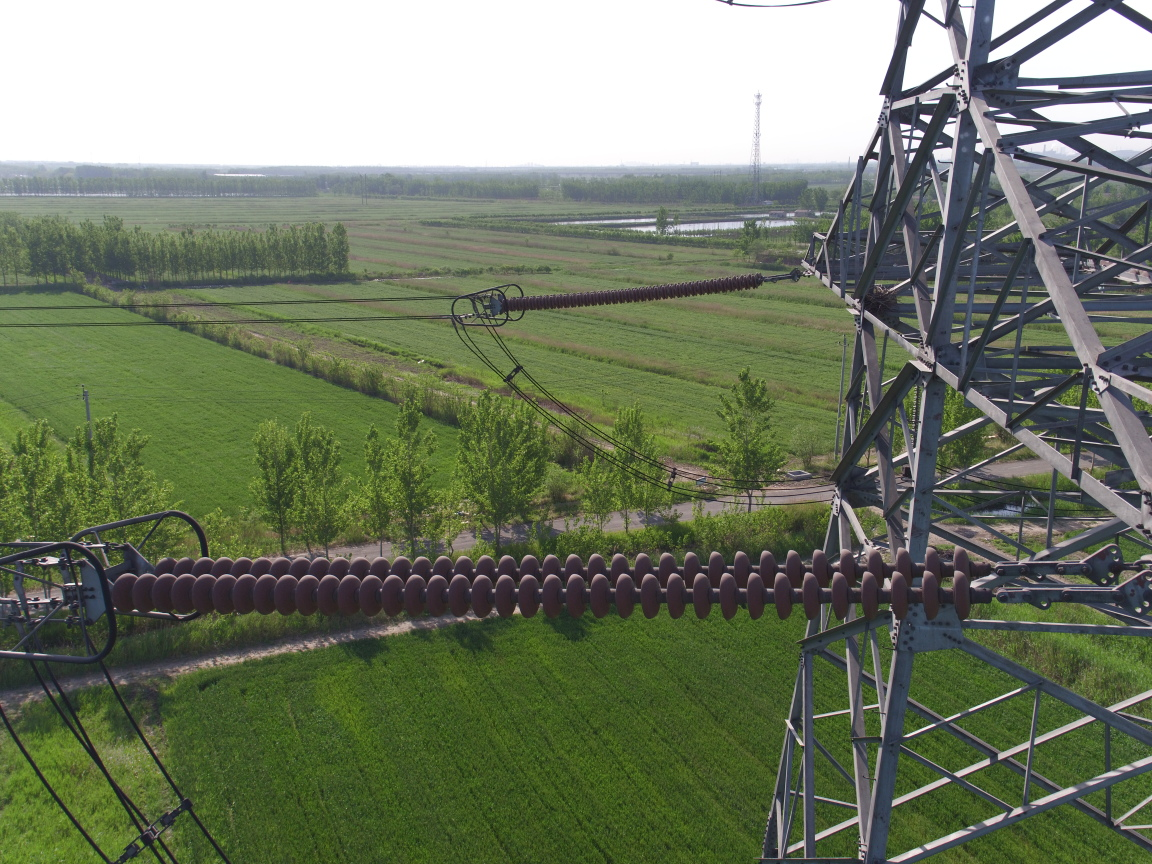insulator: (102, 538, 1006, 622), (496, 268, 771, 314)
